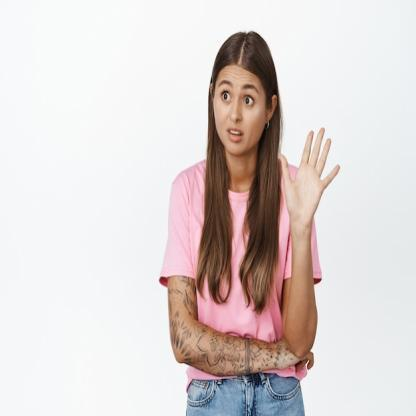stop: (276, 123, 344, 230)
